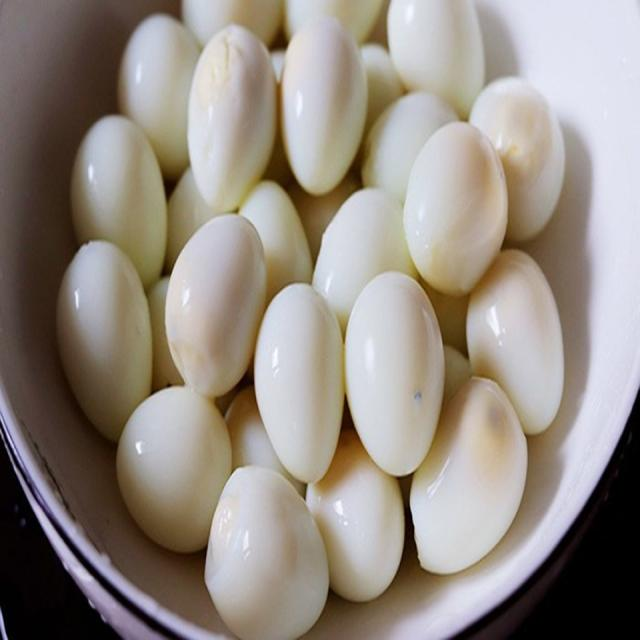trung luoc: (409, 377, 527, 574), (205, 466, 329, 639), (345, 273, 445, 475), (56, 241, 152, 442), (117, 386, 232, 552), (166, 215, 266, 397), (403, 121, 507, 294), (466, 250, 563, 433), (255, 286, 344, 482), (306, 430, 405, 601), (187, 25, 276, 213), (71, 115, 167, 284), (470, 78, 565, 238), (282, 17, 367, 194), (312, 188, 416, 332), (119, 15, 199, 179), (388, 0, 485, 119), (361, 92, 457, 205), (239, 181, 312, 303), (225, 386, 305, 494), (165, 167, 219, 274)
